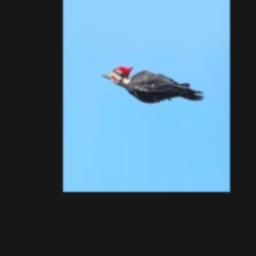Woodpecker: (102, 65, 205, 103)
